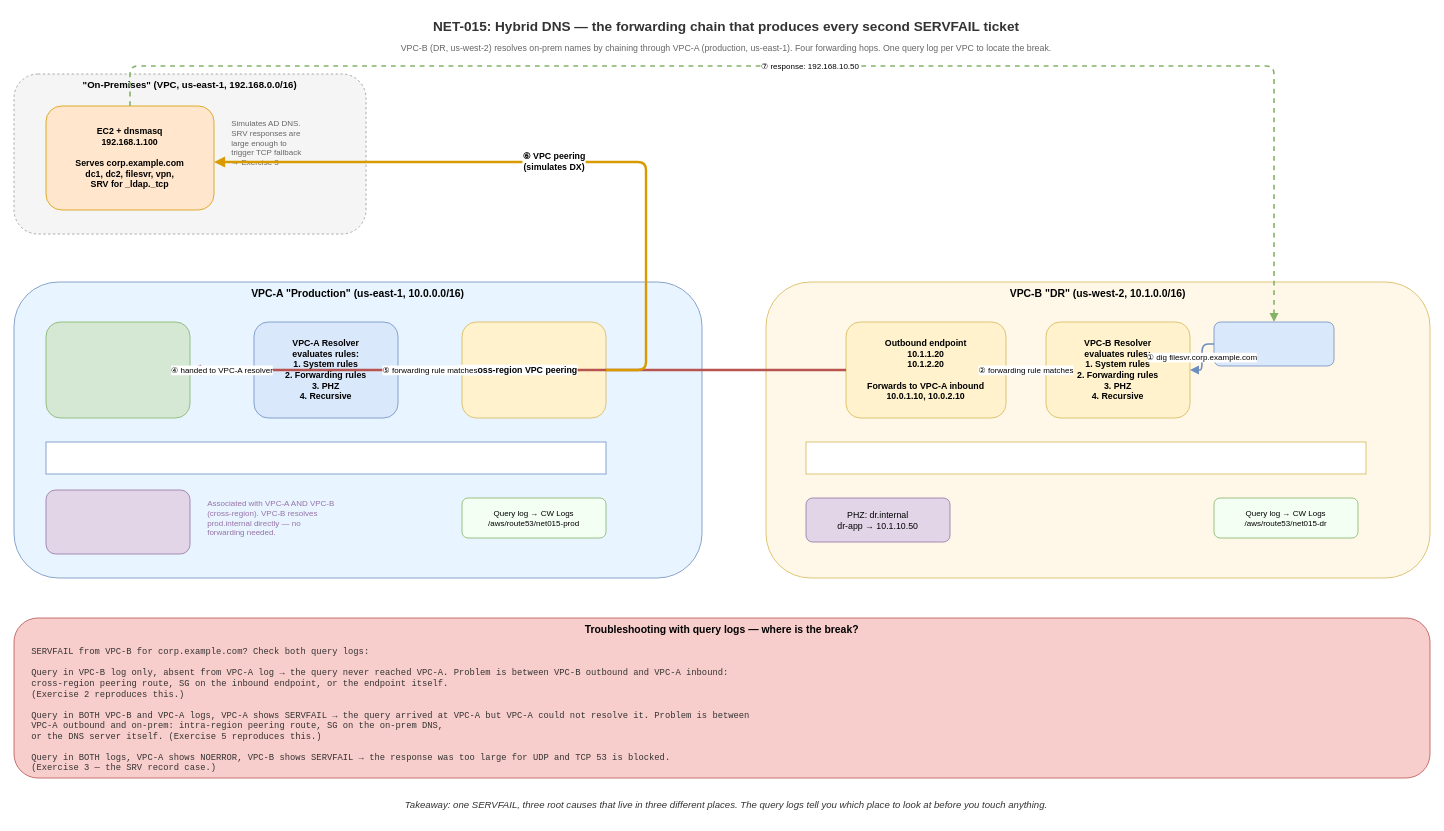
Image size: 1444x831. Some labels were removed from this diagram. The shapes that lost their labels are listed below. From the top down, each one's centre as x and y in pixels, then its label:
point 1273,343: EC2 test instance 10.1.10.x
point 117,369: Inbound endpoint 10.0.1.10 10.0.2.10 Receives queries from VPC-B and on-prem
point 533,369: Outbound endpoint 10.0.1.20 10.0.2.20 Forwards to on-prem 192.168.1.100:53
point 325,457: Forwarding rule: corp.example.com → 192.168.1.100
point 1085,457: Forwarding rule: corp.example.com → 10.0.1.10, 10.0.2.10 (VPC-A inbound)
point 117,521: PHZ: prod.internal app → 10.0.10.50 db → 10.0.20.100
